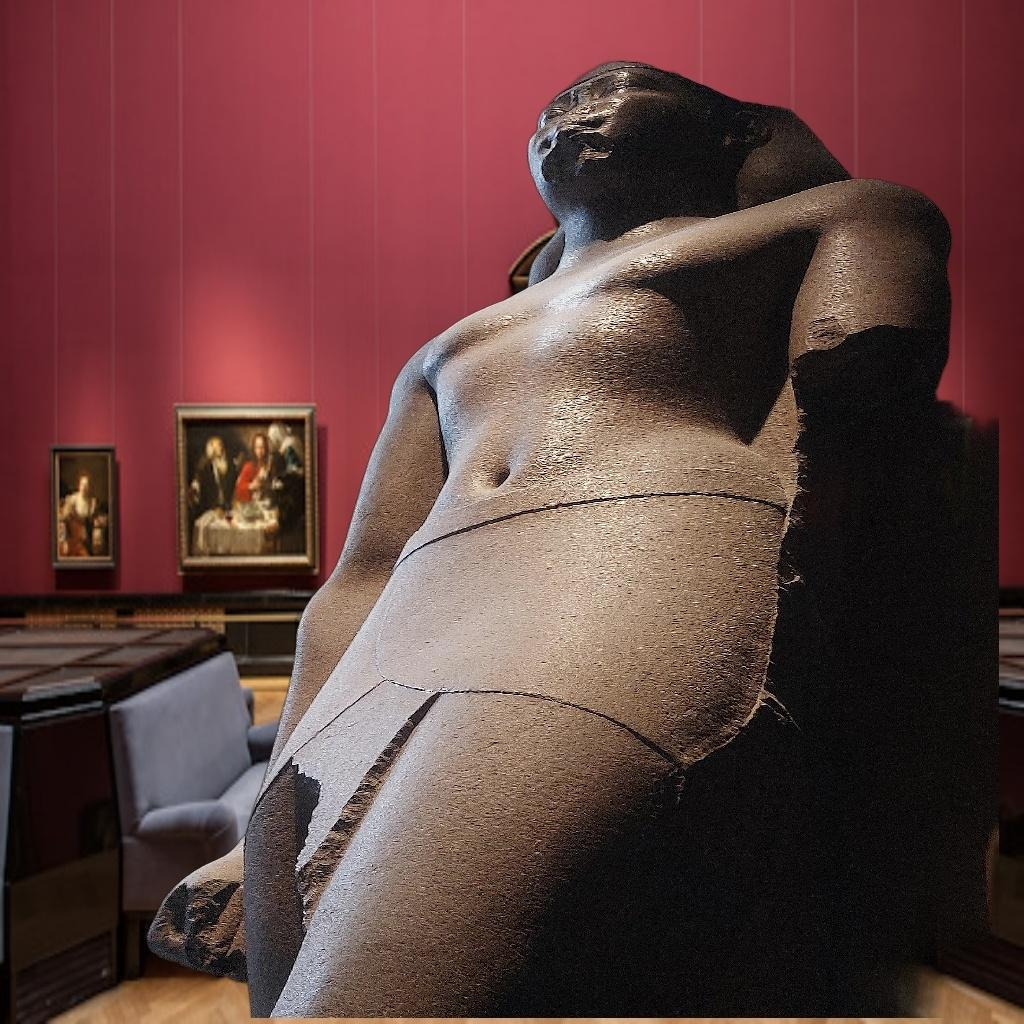Colossal Statue of Hormoheb: (142, 57, 1000, 1018)
